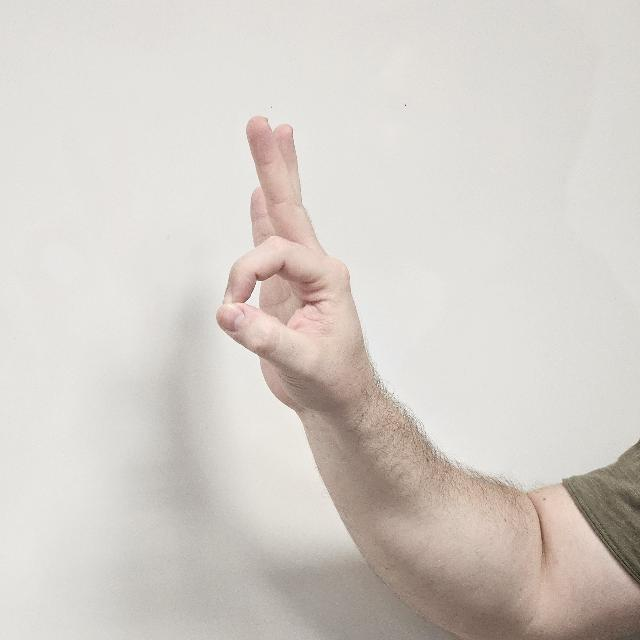Bolinha: (210, 113, 382, 444)
